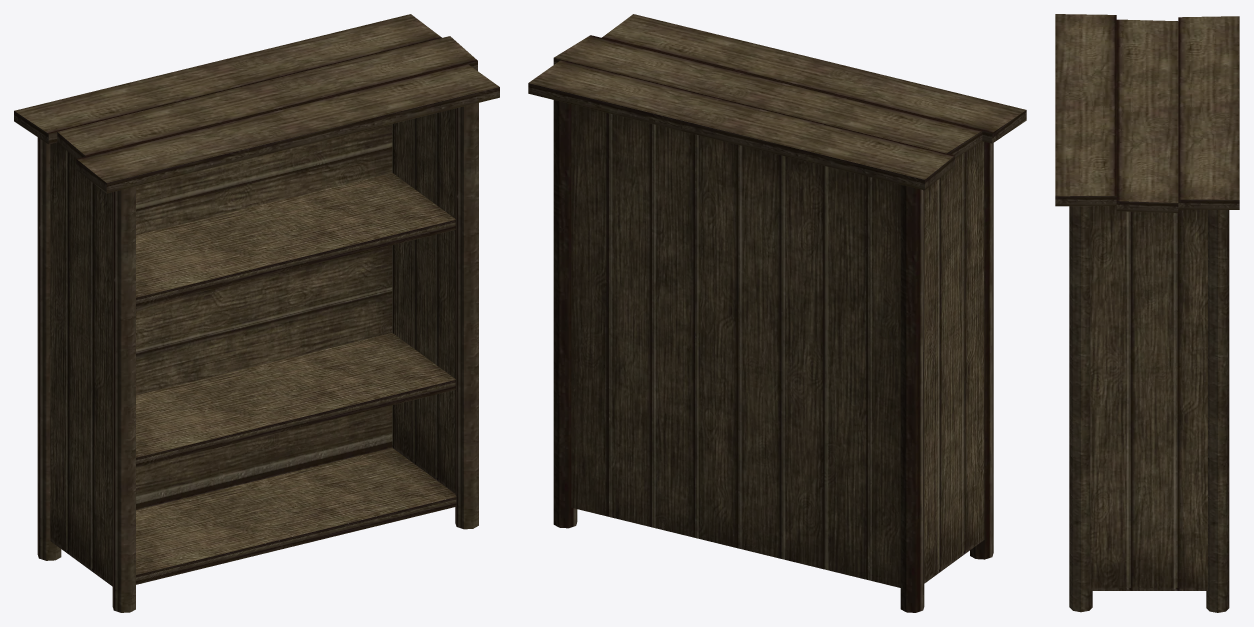
The model's file is GS_BOOKSHELF_OPEN_BROWN_01_KOZA.glb.
The picture shows the model from 3 angles, left to right: view 1: azimuth 30°, elevation 25°; view 2: azimuth 150°, elevation 25°; view 3: azimuth 270°, elevation 25°; orthographic projection. The views are drawn at different scales.
Parts seen in each view (by area): view 1: GS_BOOKSHELF_OPEN_BROWN_01_KOZA; view 2: GS_BOOKSHELF_OPEN_BROWN_01_KOZA; view 3: GS_BOOKSHELF_OPEN_BROWN_01_KOZA.
Part boxes in pixels (<box>): GS_BOOKSHELF_OPEN_BROWN_01_KOZA: <box>14,14,499,612</box>; GS_BOOKSHELF_OPEN_BROWN_01_KOZA: <box>528,14,1026,612</box>; GS_BOOKSHELF_OPEN_BROWN_01_KOZA: <box>1055,14,1239,612</box>.
Bounding box in the file's own units: 1.4 × 1.45 × 0.5777.
2 materials, 2 textured.
